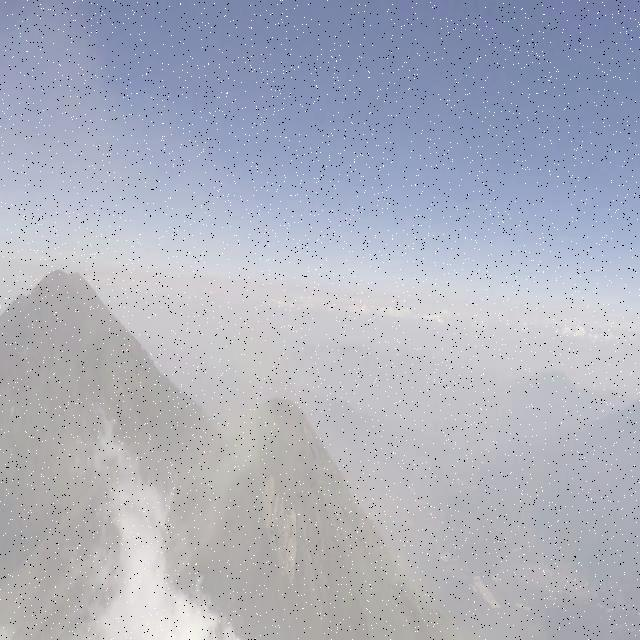Summit: (172, 390, 398, 576)
